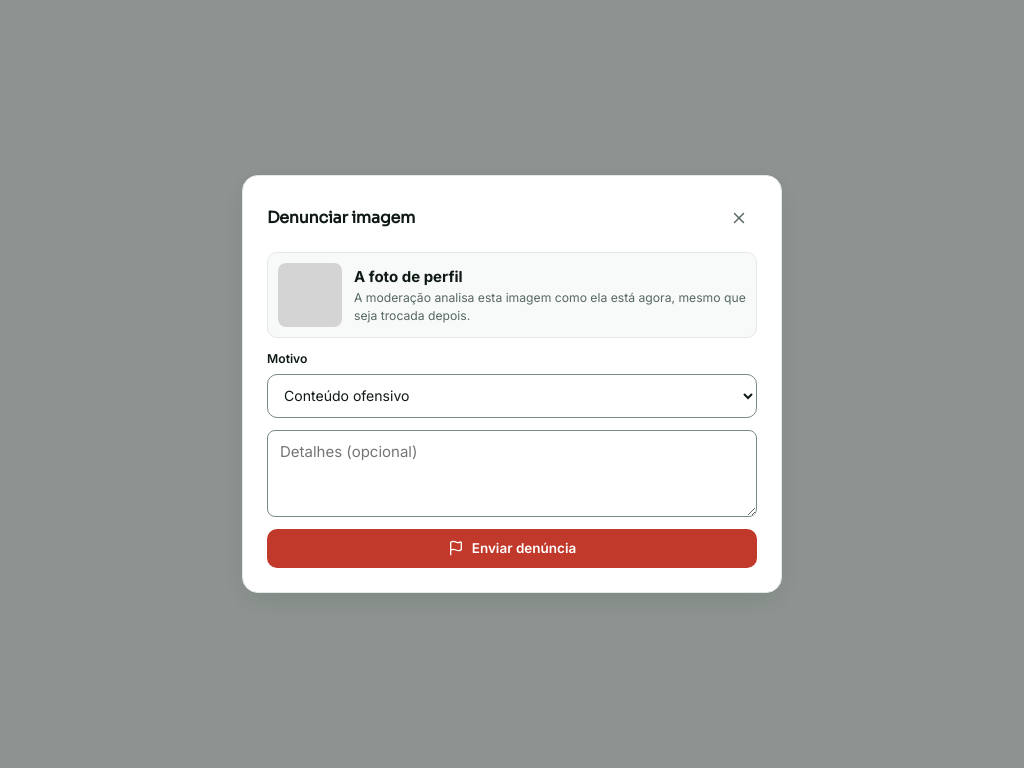
it: denúncia de um alvo só › imagem: o título diz que é imagem, o motivo começa em Conteúdo ofensivo e a miniatura aparece
Expected: the dialog "Denunciar imagem" is shown, [242,175,782,593]
Expected: the dropdown labelled "Motivo" shows "Conteúdo ofensivo", [267,374,757,418]
Click the button "Enviar denúncia" at (512, 548), box [267,529,757,568]
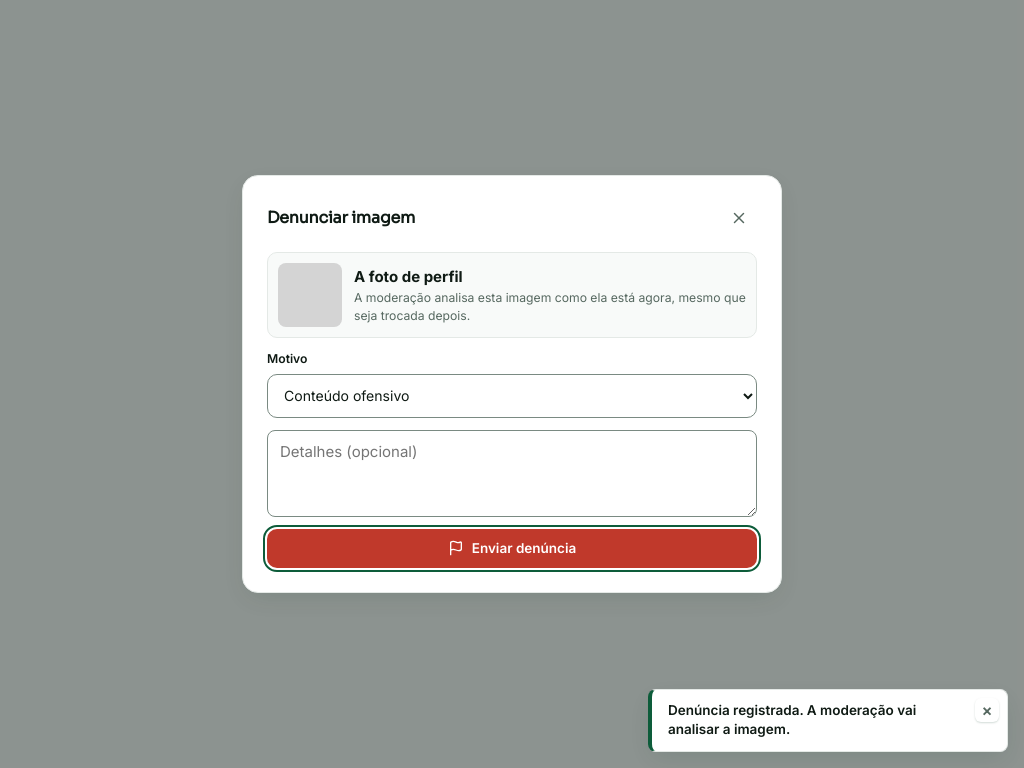
Expected: the text "Denúncia registrada. A moderação vai analisar a imagem." is shown, [668,702,916,738]
